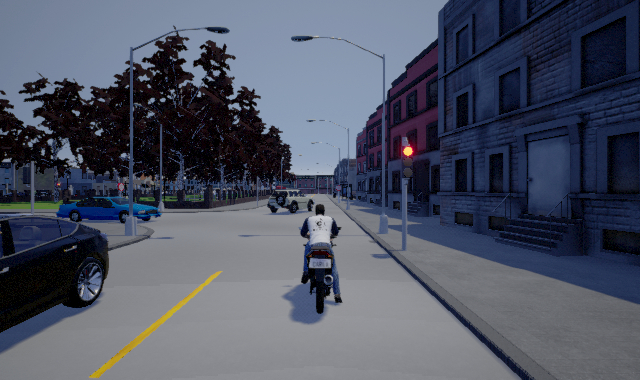motobike: (299, 201, 341, 314)
traffic_light: (401, 145, 414, 180)
traffic_sign: (117, 182, 126, 193), (334, 184, 343, 192)
vehicle: (1, 197, 110, 335), (56, 195, 161, 223), (267, 188, 315, 214)
